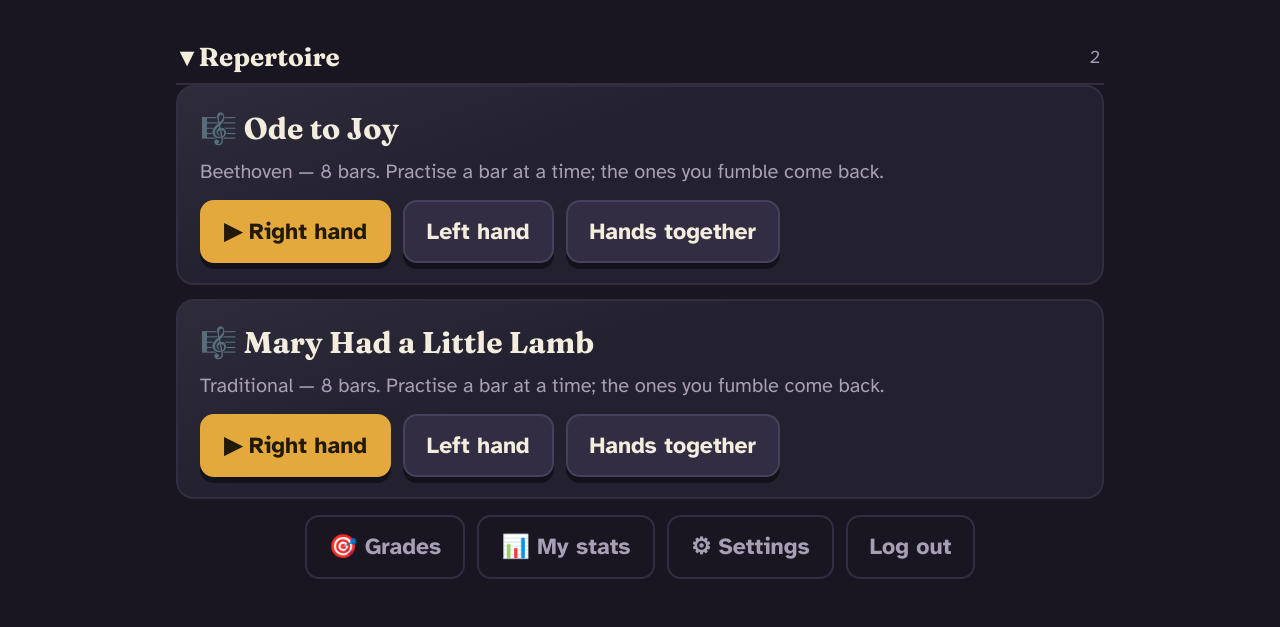
it: signed in › logs out back to the login screen
(page scrolled)
Click the button "Log out" at {"x": 910, "y": 547}, box [846, 515, 975, 578]
(page scrolled)
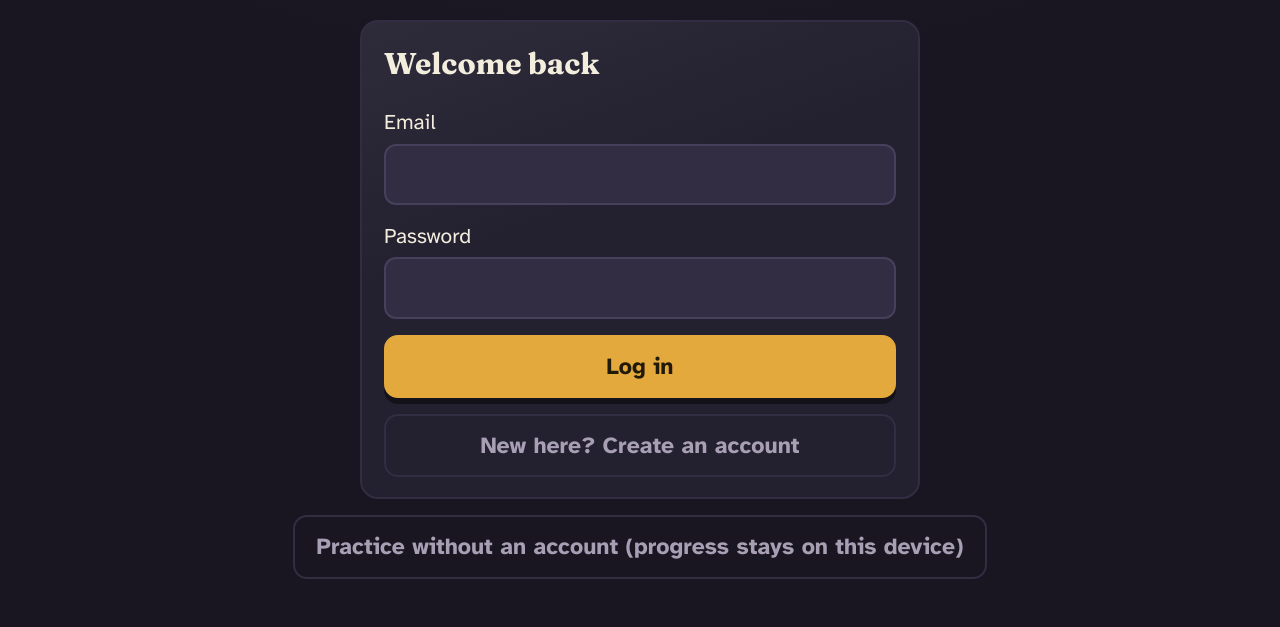
Expected: the heading "Welcome back" is shown, [384, 45, 600, 82]
